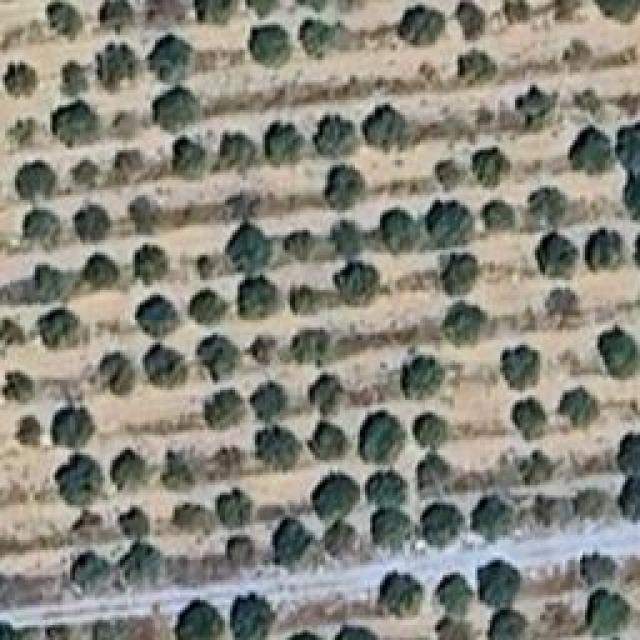Tree: (53, 452, 104, 509), (354, 411, 406, 464), (530, 228, 580, 283), (585, 585, 635, 640), (135, 293, 189, 343), (297, 12, 343, 70), (220, 223, 271, 275), (375, 570, 427, 621), (325, 160, 375, 213), (50, 100, 104, 148), (168, 498, 218, 549), (518, 78, 567, 129), (440, 294, 486, 348), (597, 322, 640, 379), (365, 508, 417, 555), (203, 390, 252, 439), (473, 493, 522, 542), (48, 403, 99, 450), (425, 198, 476, 245), (490, 345, 541, 392), (398, 2, 450, 48), (148, 33, 196, 82), (523, 180, 574, 226), (378, 210, 425, 259), (310, 472, 360, 518), (270, 515, 316, 565), (413, 453, 456, 506), (235, 275, 282, 323), (555, 380, 601, 429), (38, 308, 89, 352), (418, 502, 466, 548), (333, 260, 382, 305), (455, 45, 502, 91), (127, 243, 171, 292), (140, 348, 189, 392), (228, 590, 272, 639), (513, 398, 556, 448), (10, 157, 56, 203), (398, 355, 445, 400), (470, 145, 517, 190), (568, 123, 612, 171), (470, 558, 513, 606), (363, 103, 404, 153), (362, 470, 408, 514), (177, 597, 224, 640), (155, 88, 202, 130), (514, 449, 564, 488), (248, 22, 292, 66), (293, 325, 336, 370), (68, 547, 109, 594), (18, 205, 60, 249), (28, 257, 67, 304), (255, 428, 302, 467), (333, 220, 372, 267), (548, 290, 586, 338), (593, 228, 635, 271), (573, 480, 615, 523), (215, 134, 260, 174), (53, 50, 91, 97), (440, 253, 478, 300), (573, 553, 620, 591), (98, 43, 140, 85), (0, 55, 44, 95), (160, 447, 199, 492), (430, 567, 467, 614), (78, 250, 121, 290), (317, 115, 363, 152), (530, 491, 571, 532), (200, 334, 240, 376), (410, 403, 452, 443), (3, 109, 43, 151), (42, 0, 86, 38), (170, 135, 210, 176), (120, 543, 162, 582), (263, 123, 306, 161), (488, 602, 531, 640), (98, 355, 138, 395), (113, 450, 150, 493), (75, 203, 116, 241), (305, 423, 347, 460), (250, 378, 294, 413), (190, 0, 247, 27), (220, 490, 260, 527), (308, 373, 344, 414), (290, 280, 324, 322), (453, 0, 491, 37), (435, 153, 471, 192), (190, 290, 225, 330), (283, 225, 319, 263), (225, 540, 266, 573), (429, 614, 481, 640), (120, 503, 155, 540), (110, 150, 146, 185), (65, 158, 100, 194), (128, 200, 165, 234), (0, 370, 31, 409), (597, 0, 640, 27), (615, 430, 639, 477), (188, 250, 218, 287), (102, 0, 135, 32), (15, 415, 43, 452), (615, 178, 640, 218), (253, 333, 282, 367), (333, 612, 368, 640), (0, 315, 26, 352), (615, 123, 639, 163), (617, 478, 639, 515), (497, 0, 530, 24), (250, 0, 281, 19)
